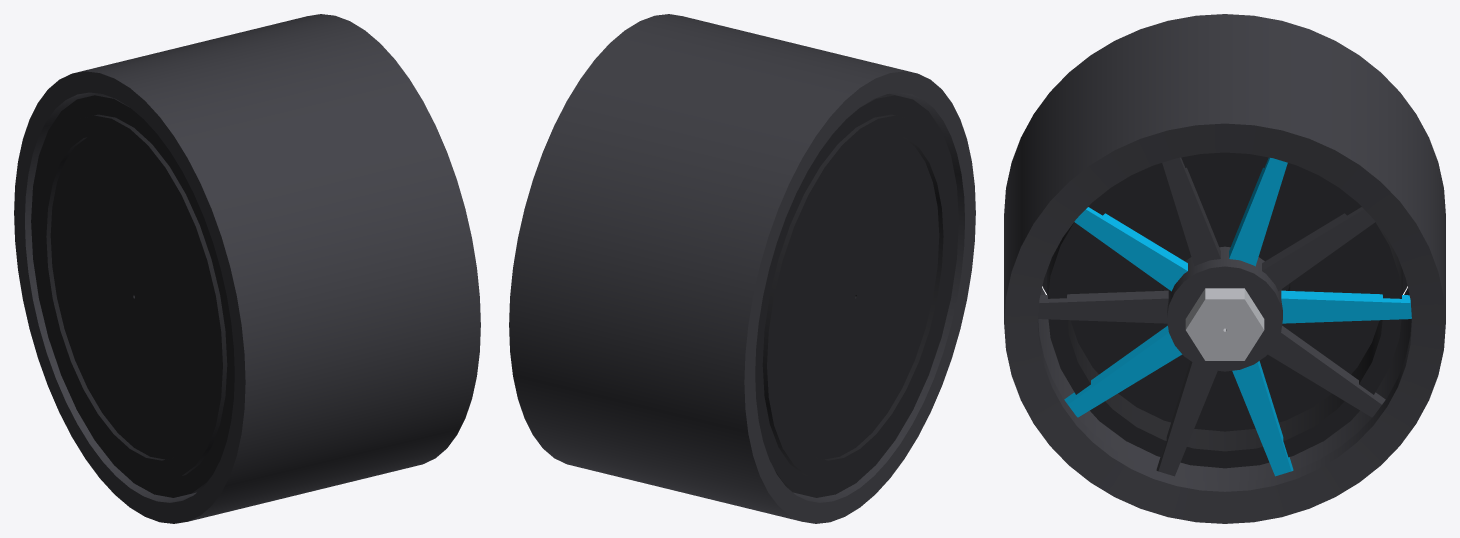
The model's file is spoked_front.glb.
The picture shows the model from 3 angles, left to right: view 1: azimuth 30°, elevation 25°; view 2: azimuth 150°, elevation 25°; view 3: azimuth 270°, elevation 25°; orthographic projection. The views are drawn at different scales.
Parts seen in each view (by area): view 1: Rim_spoked_front; view 2: Rim_spoked_front; view 3: Rim_spoked_front.
Boxes of the visible parts, <box> form: Rim_spoked_front: <box>14,14,480,523</box>; Rim_spoked_front: <box>509,14,975,523</box>; Rim_spoked_front: <box>1004,14,1445,523</box>.
Bounding box in the file's own units: 0.293 × 0.472 × 0.472.
